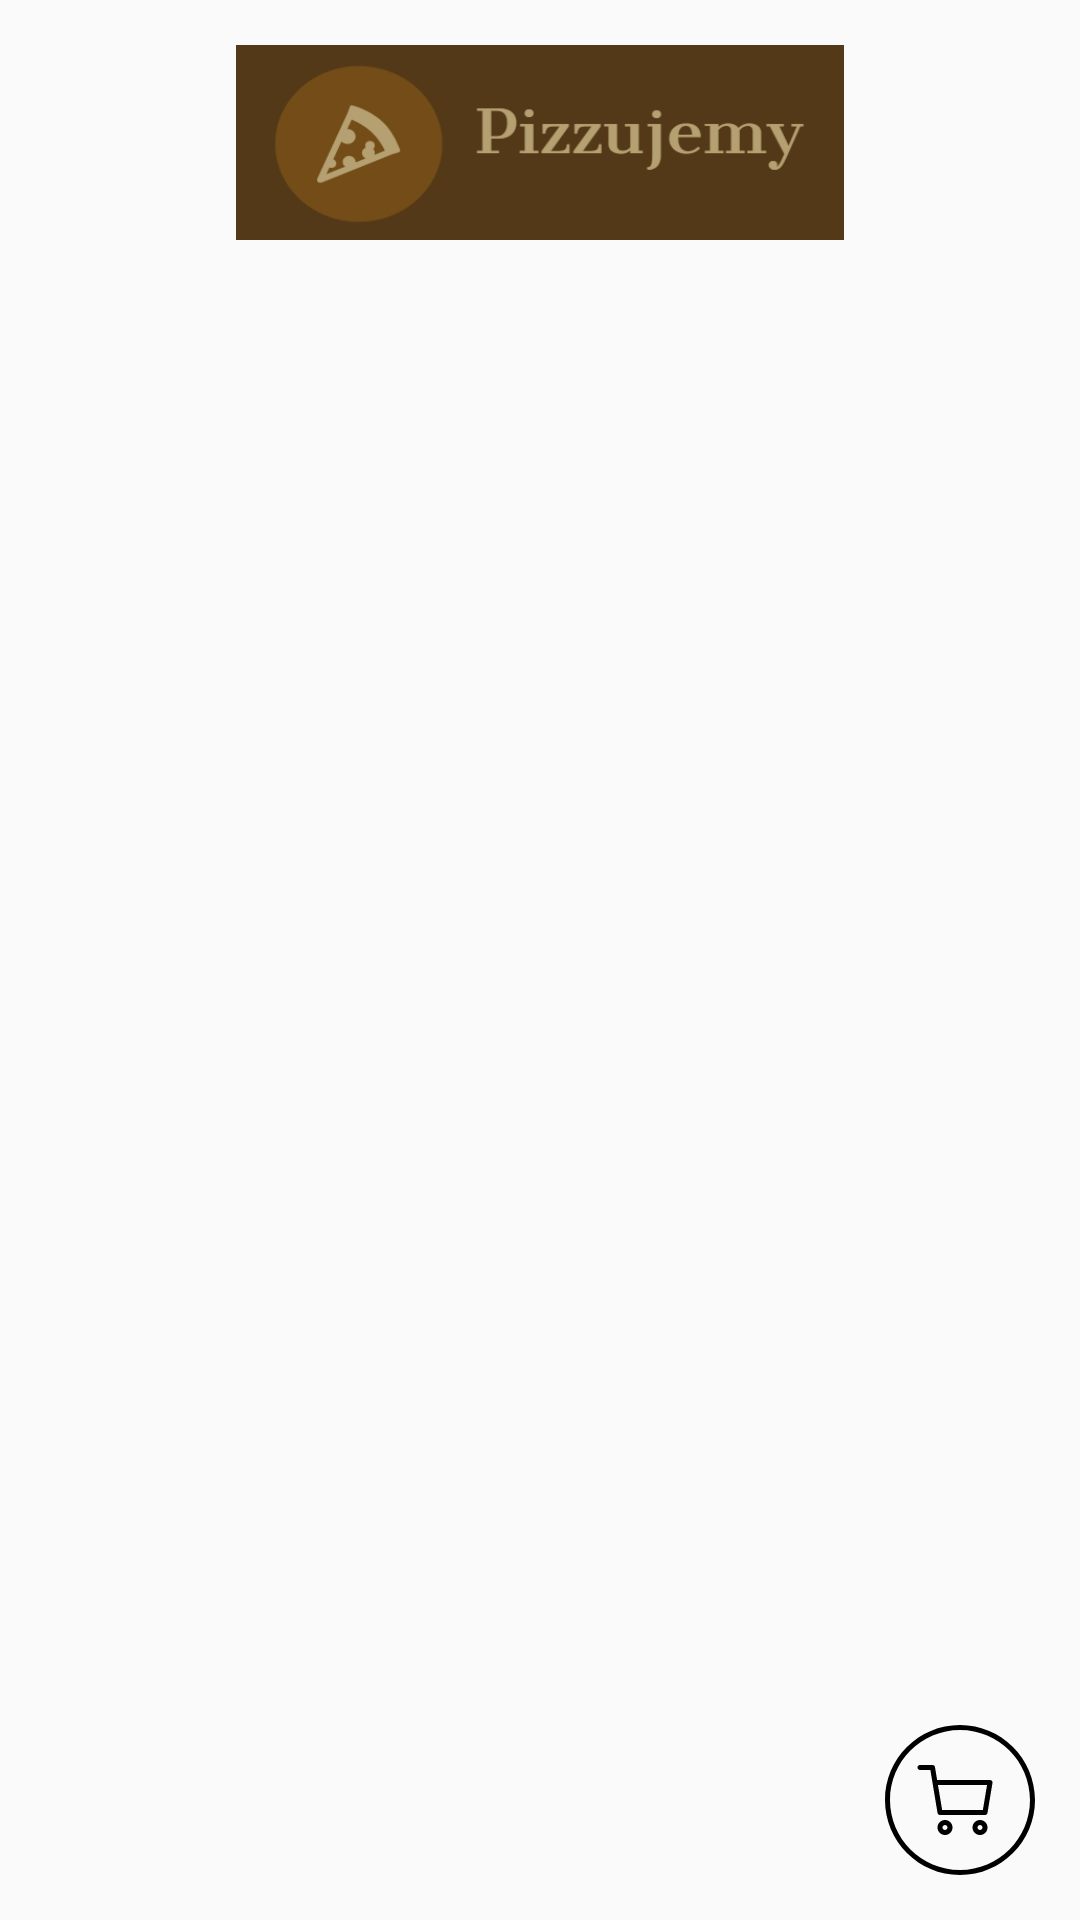

Locate icon controls on the screen. Image size 1080 × 1920, boxes as region(x1, y1, x2, y2).
shopping cart: region(885, 1725, 1035, 1875)
